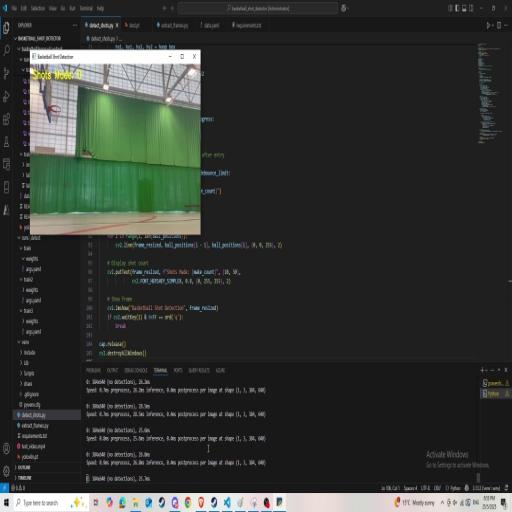hoops: (48, 105, 62, 126)
